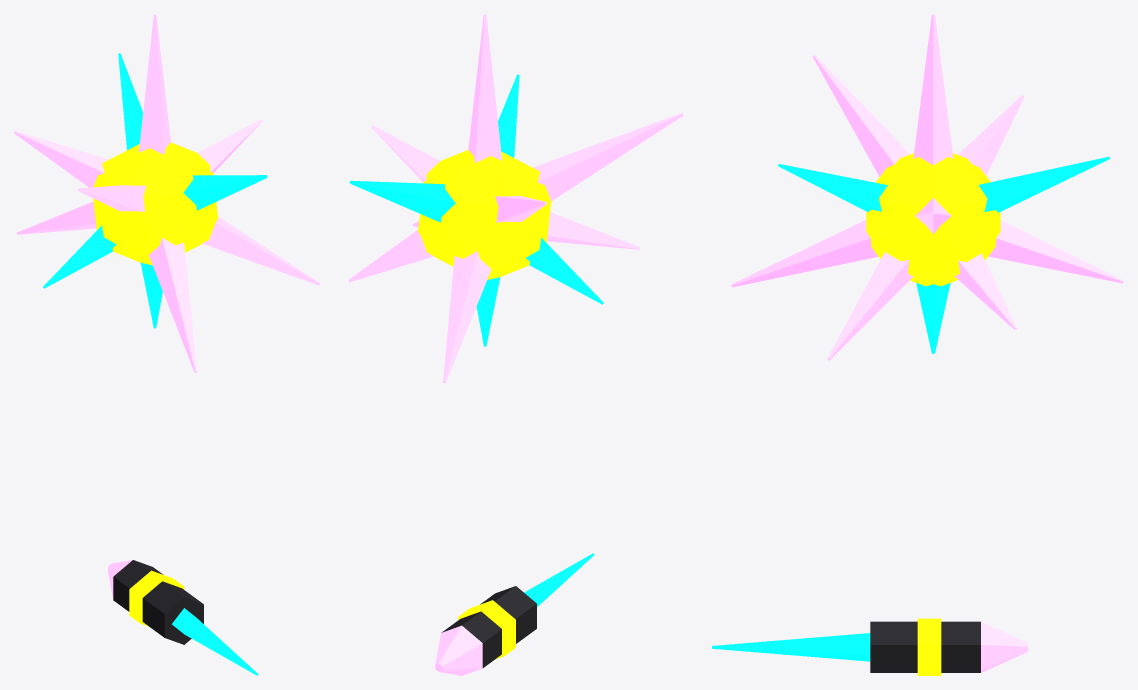
The model's file is Proj_FlakShell.fbx.
3 views of the same model, side by side, from view 1: azimuth 30°, elevation 25°; view 2: azimuth 150°, elevation 25°; view 3: azimuth 270°, elevation 25° (orthographic). The views are drawn at different scales.
Parts seen in each view (by area): view 1: Flak_BurstCore, Flak_ShellBody, Flak_BurstSpike2, Flak_BurstSpike11, Flak_BurstSpike1, Flak_BurstSpike8, Flak_BurstSpike6, Flak_ShellTrail, Flak_BurstSpike7, Flak_BurstSpike9, Flak_BurstSpike3, Flak_BurstSpike4 (+3 smaller); view 2: Flak_BurstCore, Flak_BurstSpike7, Flak_BurstSpike4, Flak_BurstSpike11, Flak_ShellBody, Flak_BurstSpike9, Flak_ShellNose, Flak_BurstSpike2, Flak_BurstSpike5, Flak_BurstSpike3, Flak_BurstSpike10, Flak_ShellBand (+4 smaller); view 3: Flak_BurstCore, Flak_ShellBody, Flak_BurstSpike11, Flak_BurstSpike2, Flak_BurstSpike4, Flak_BurstSpike7, Flak_ShellTrail, Flak_BurstSpike1, Flak_BurstSpike9, Flak_BurstSpike6, Flak_BurstSpike5, Flak_BurstSpike8 (+4 smaller).
Boxes of the visible parts, <box> form: Flak_BurstCore: <box>93,142,218,265</box>; Flak_ShellBody: <box>113,560,203,644</box>; Flak_BurstSpike2: <box>149,238,197,372</box>; Flak_BurstSpike11: <box>139,14,170,154</box>; Flak_BurstSpike1: <box>202,216,319,285</box>; Flak_BurstSpike8: <box>14,130,108,187</box>; Flak_BurstSpike6: <box>183,175,267,210</box>; Flak_ShellTrail: <box>172,608,258,675</box>; Flak_BurstSpike7: <box>77,185,146,211</box>; Flak_BurstSpike9: <box>118,53,143,150</box>; Flak_BurstSpike3: <box>43,225,116,288</box>; Flak_BurstSpike4: <box>17,201,96,234</box>; Flak_BurstCore: <box>418,150,551,279</box>; Flak_BurstSpike7: <box>533,113,683,200</box>; Flak_BurstSpike4: <box>443,251,491,383</box>; Flak_BurstSpike11: <box>468,14,502,162</box>; Flak_ShellBody: <box>441,586,536,667</box>; Flak_BurstSpike9: <box>349,180,455,222</box>; Flak_ShellNose: <box>435,625,482,675</box>; Flak_BurstSpike2: <box>547,212,639,249</box>; Flak_BurstSpike5: <box>348,230,433,282</box>; Flak_BurstSpike3: <box>526,238,603,304</box>; Flak_BurstSpike10: <box>371,125,439,182</box>; Flak_ShellBand: <box>458,600,515,659</box>; Flak_BurstCore: <box>866,153,1000,286</box>; Flak_ShellBody: <box>870,621,980,672</box>; Flak_BurstSpike11: <box>913,14,953,165</box>; Flak_BurstSpike2: <box>731,220,878,287</box>; Flak_BurstSpike4: <box>988,220,1123,283</box>; Flak_BurstSpike7: <box>813,55,910,176</box>; Flak_ShellTrail: <box>712,633,870,661</box>; Flak_BurstSpike1: <box>827,252,913,360</box>; Flak_BurstSpike9: <box>978,156,1109,212</box>; Flak_BurstSpike6: <box>778,164,887,212</box>; Flak_BurstSpike5: <box>954,253,1016,329</box>; Flak_BurstSpike8: <box>958,95,1024,175</box>.
Size of the model in its own units: 0.1968 by 0.4616 by 0.2605.
